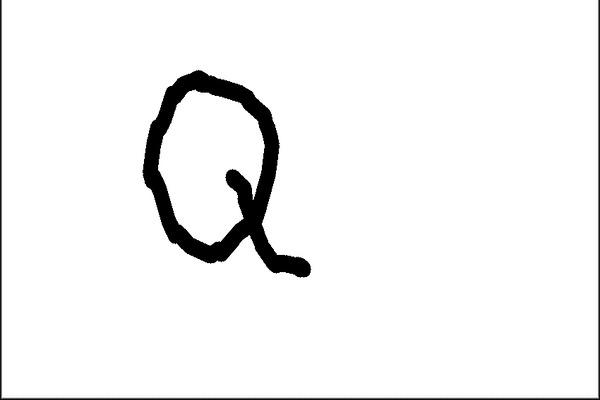Q: (134, 68, 313, 290)
